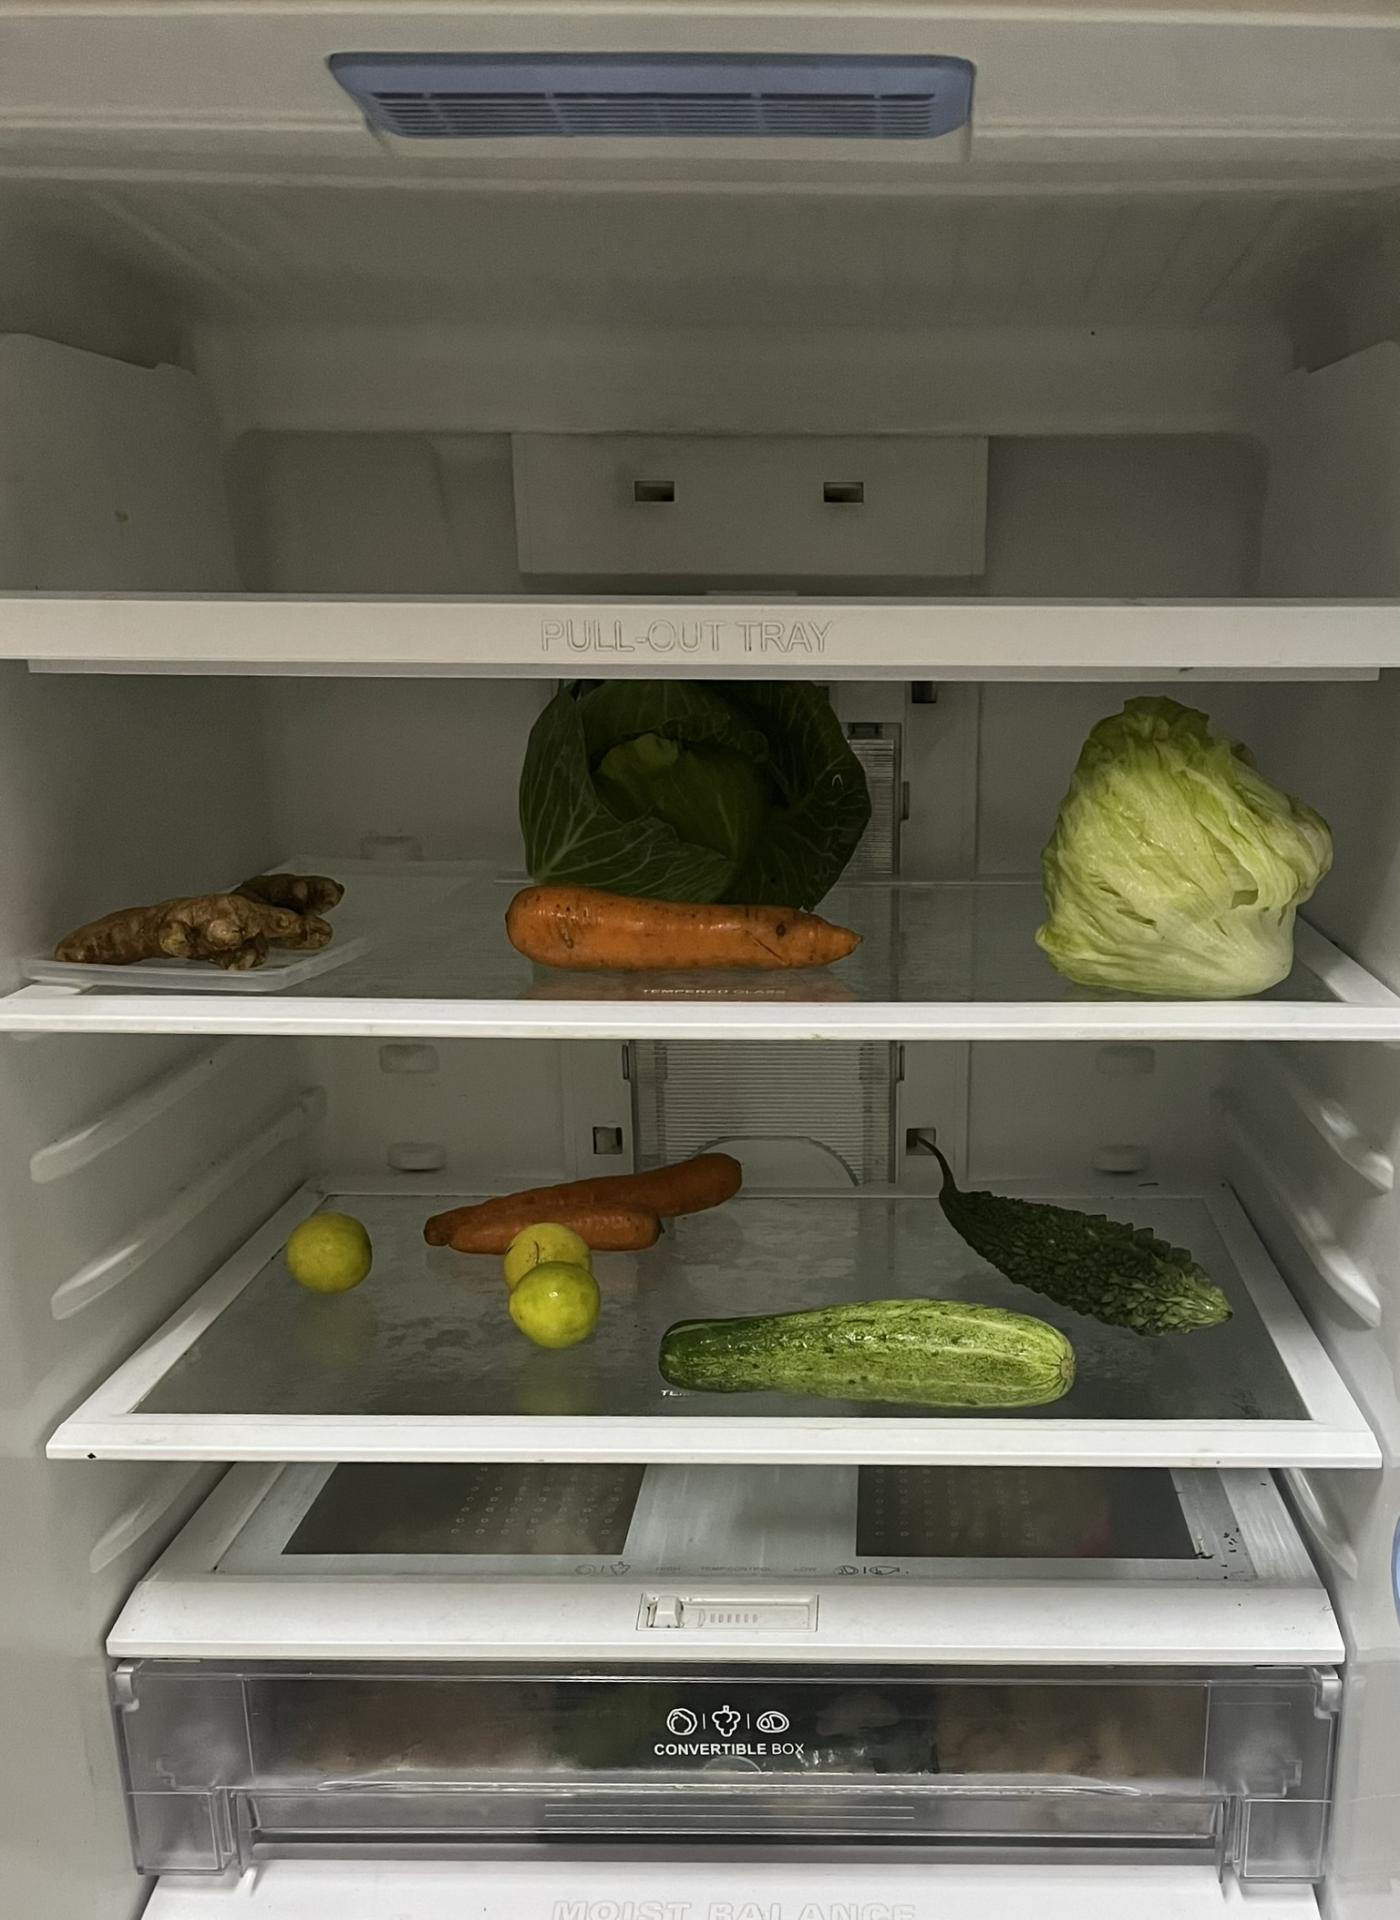cabbage: (516, 686, 884, 906)
carrots: (409, 1155, 757, 1251), (498, 878, 857, 967)
cucumber: (643, 1307, 1094, 1407)
ginger: (49, 859, 334, 976)
lemon: (502, 1221, 602, 1364), (285, 1215, 374, 1291)
lettuce: (1032, 690, 1325, 979)
